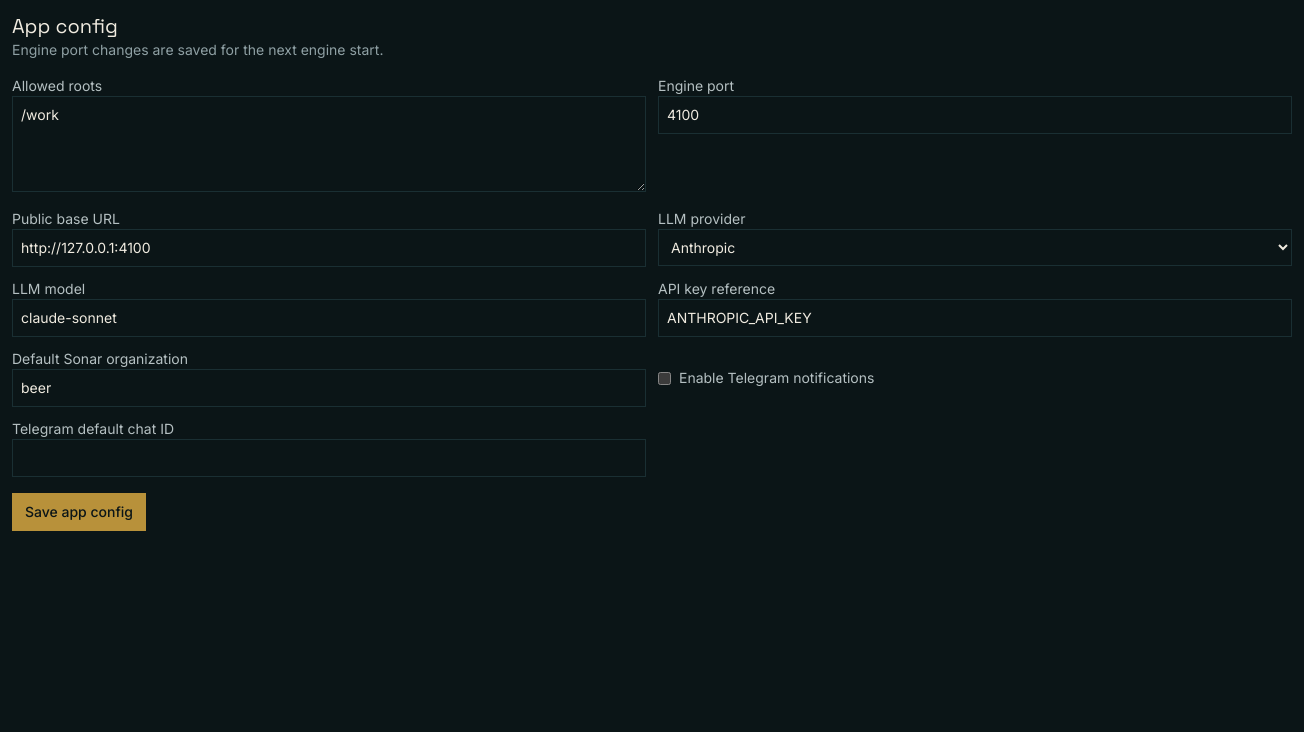
Test: Partial save feedback › AC-10 keeps rejected fields visible with field-near errors
This screenshot has width=1304, height=732.
Replace the text in the number field labelled "Engine port" with "99999". click: (975, 115)
box: [658,96,1292,134]
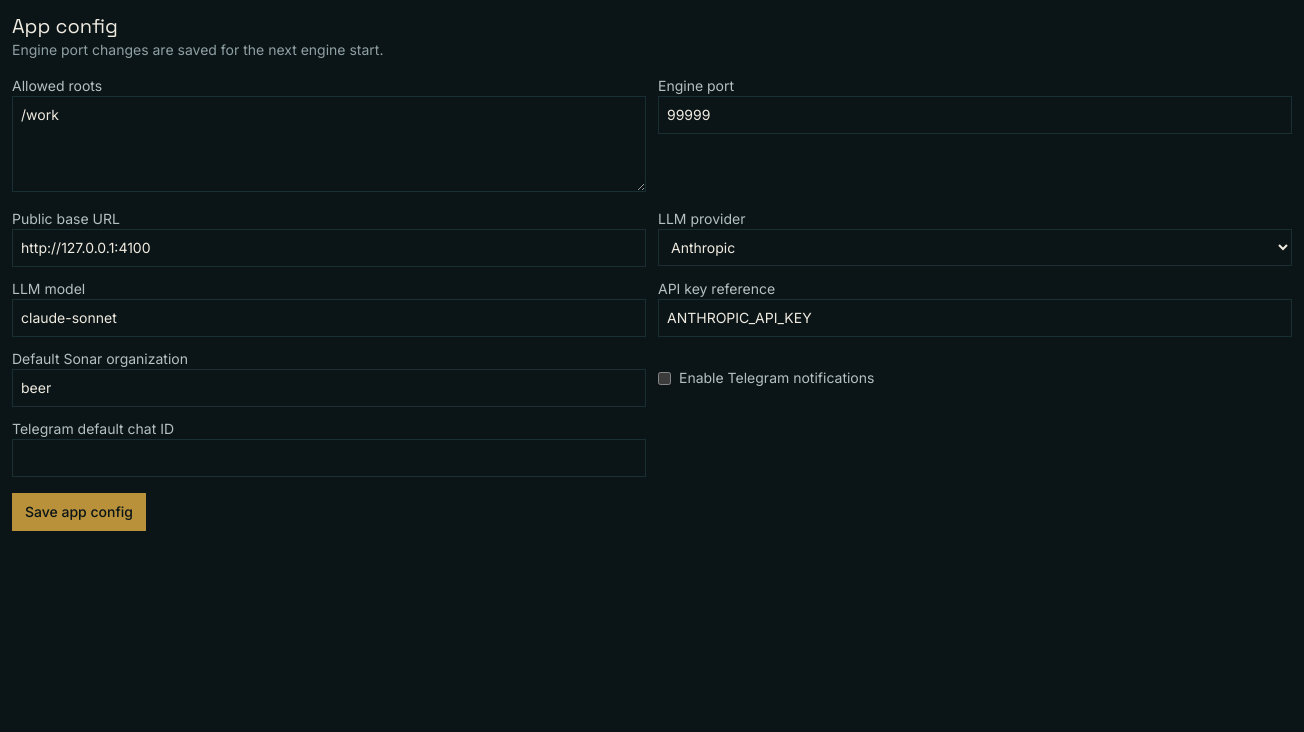
Click the button "Save app config". click: (79, 512)
box: [12,493,146,531]
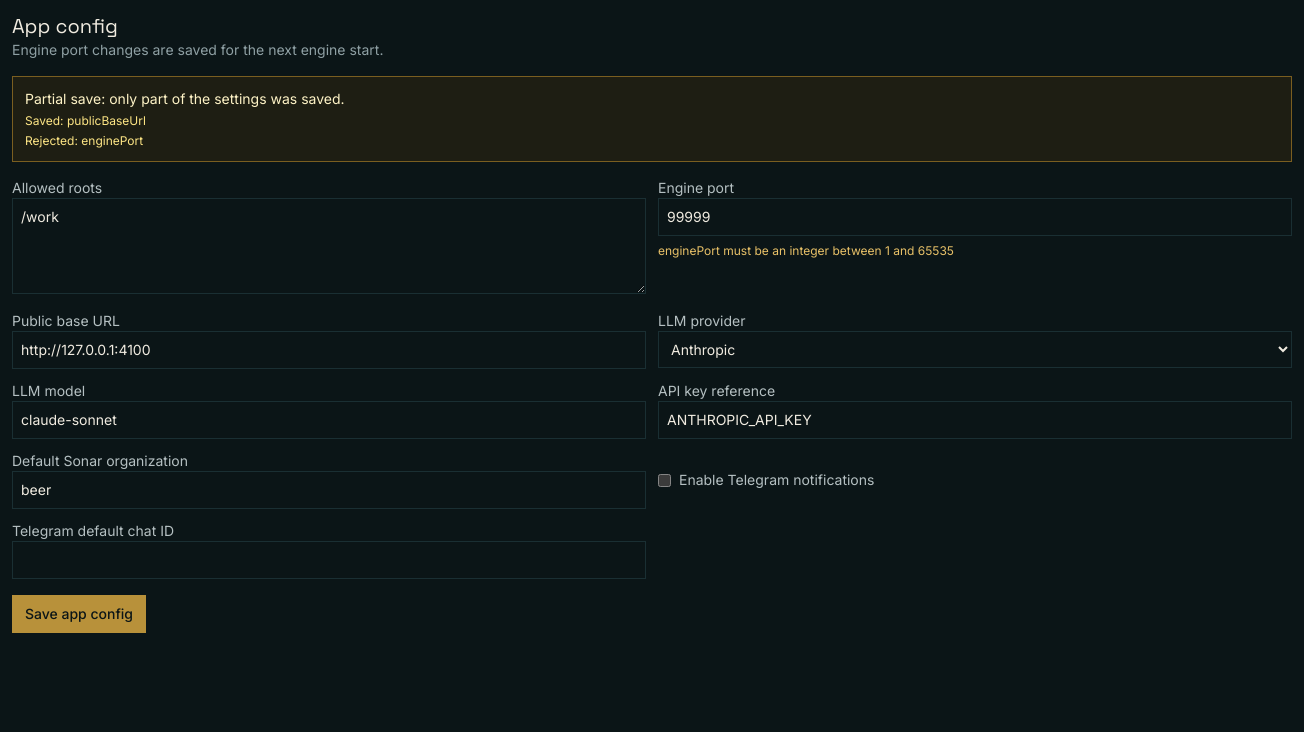
Now the text "enginePort must be an integer between 1 and 65535" is shown, box [658,243,954,258]
